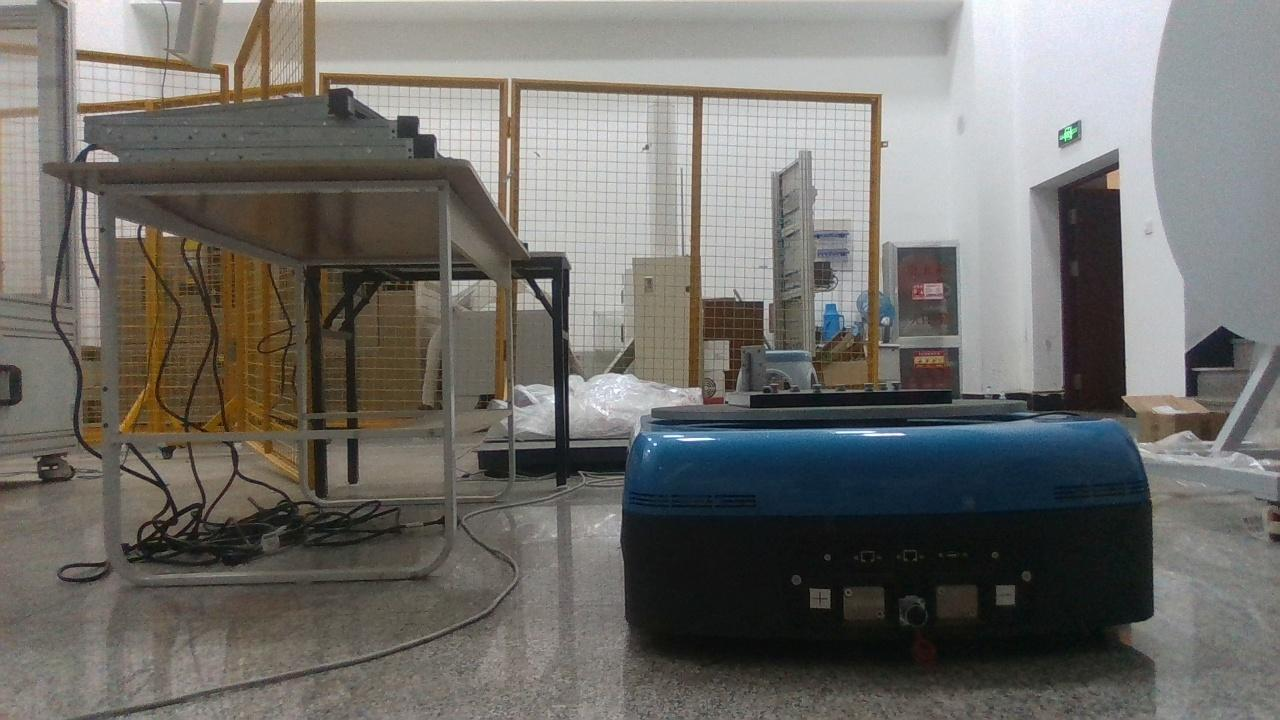AGV: (620, 389, 1155, 665)
